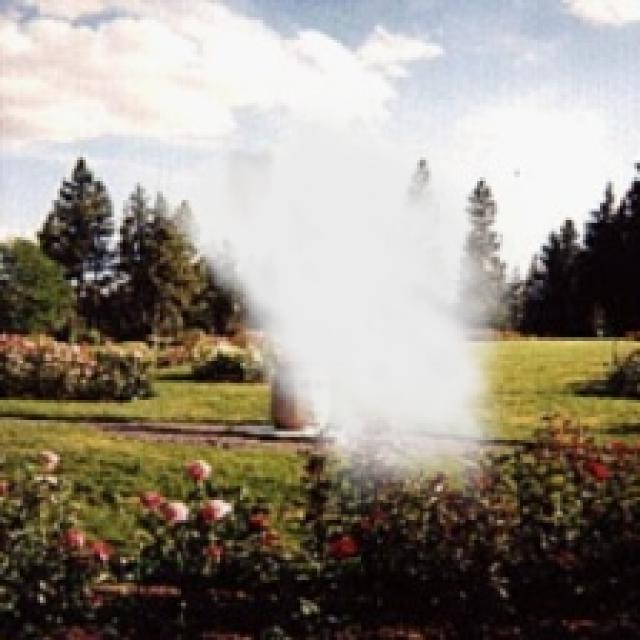smoke: (109, 94, 528, 520)
